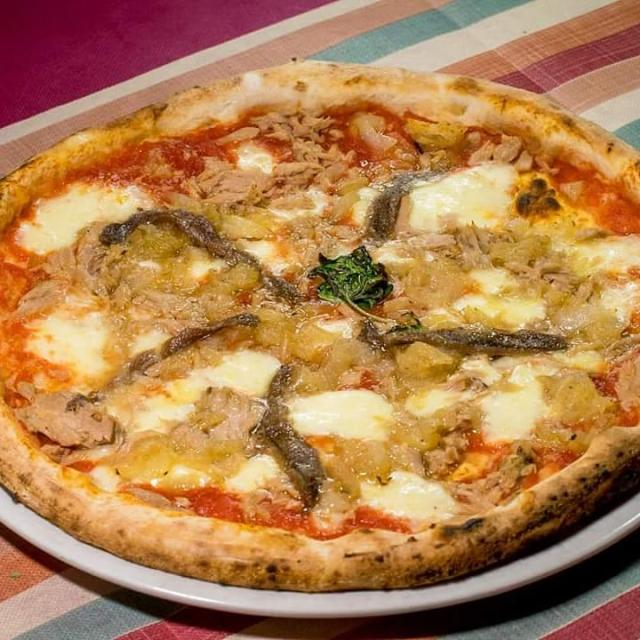basil: (308, 246, 406, 327)
pizza: (0, 62, 640, 590)
